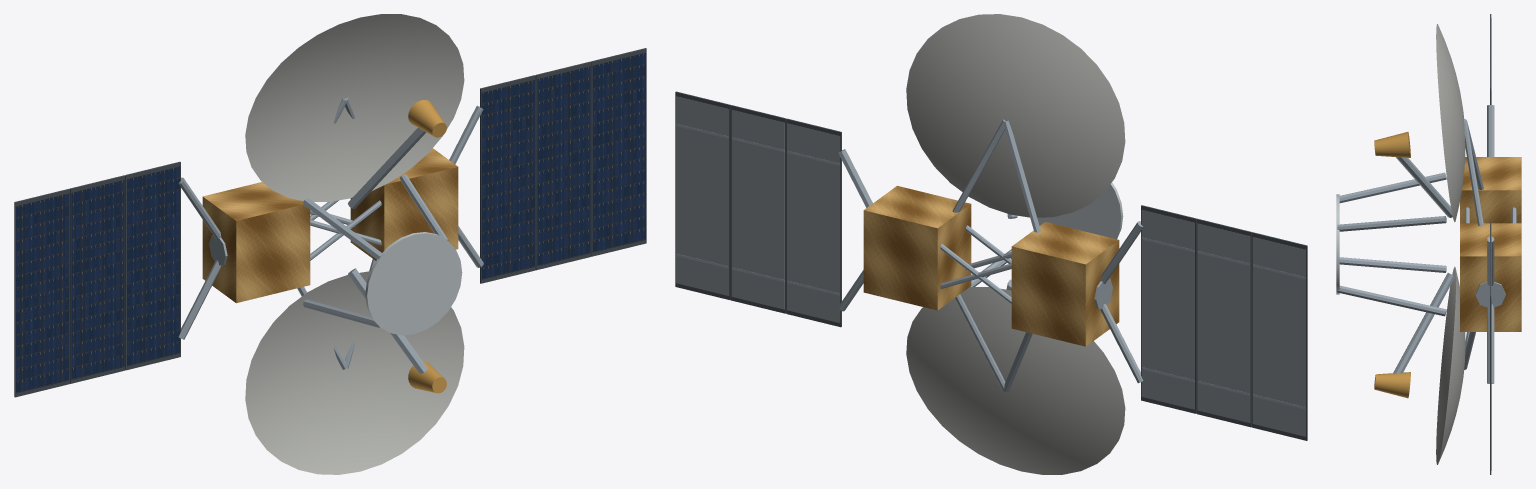
File: ref-milstar-25724.glb
3 views of the same model, side by side, from view 1: azimuth 30°, elevation 25°; view 2: azimuth 150°, elevation 25°; view 3: azimuth 270°, elevation 25° (orthographic). The views are drawn at different scales.
Visible parts, largest first — view 1: Solar cell panel (×6), Communications reflector (×2), Payload module (×2), Antenna tower platform, Solar panel frame (×6), Offset feed boom (×2), Feed horn (×2), Antenna tower leg (×2), Array yoke; view 2: Communications reflector (×2), Rear array substrate (×6), Payload module (×2), Solar panel frame (×6), Shell hinge strut (×3), Antenna tower platform, Array yoke; view 3: Payload module (×2), Communications reflector (×2), Antenna tower leg (×4), Offset feed boom (×2), Feed horn (×2), Array yoke (×3), Shell hinge strut (×3), Array drive, Solar panel frame, Antenna tower platform.
Boxes of the visible parts, bbox=[...] form: Solar cell panel (×6): bbox=[16, 53, 645, 393]; Communications reflector (×2): bbox=[245, 14, 464, 474]; Payload module (×2): bbox=[202, 148, 458, 303]; Antenna tower platform: bbox=[365, 232, 462, 335]; Solar panel frame (×6): bbox=[14, 48, 646, 397]; Offset feed boom (×2): bbox=[348, 127, 427, 373]; Feed horn (×2): bbox=[408, 100, 446, 393]; Antenna tower leg (×2): bbox=[303, 198, 382, 328]; Array yoke: bbox=[178, 260, 221, 339]; Communications reflector (×2): bbox=[906, 14, 1125, 474]; Rear array substrate (×6): bbox=[676, 96, 1305, 436]; Payload module (×2): bbox=[863, 185, 1119, 346]; Solar panel frame (×6): bbox=[675, 91, 1307, 440]; Shell hinge strut (×3): bbox=[952, 119, 1040, 391]; Antenna tower platform: bbox=[1037, 182, 1123, 239]; Array yoke: bbox=[1100, 303, 1143, 383]; Payload module (×2): bbox=[1460, 157, 1521, 331]; Communications reflector (×2): bbox=[1436, 24, 1465, 464]; Antenna tower leg (×4): bbox=[1337, 172, 1446, 316]; Offset feed boom (×2): bbox=[1393, 157, 1455, 373]; Feed horn (×2): bbox=[1374, 132, 1410, 398]; Array yoke (×3): bbox=[1487, 105, 1494, 383]; Shell hinge strut (×3): bbox=[1464, 119, 1483, 369]; Array drive: bbox=[1475, 282, 1505, 307]; Solar panel frame: bbox=[1490, 272, 1491, 474]; Antenna tower platform: bbox=[1336, 194, 1339, 294].
Size of the model in its own units: 34.97 by 24.03 by 9.68.
Materials: 8 (2 with a texture image).
